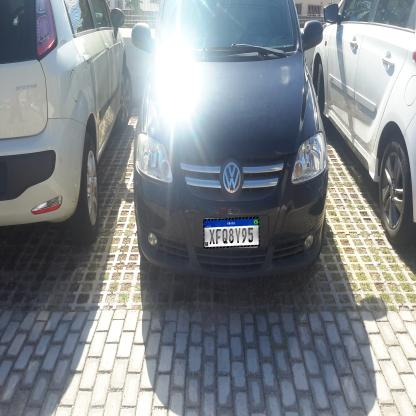PlacaM: (203, 217, 260, 249)
